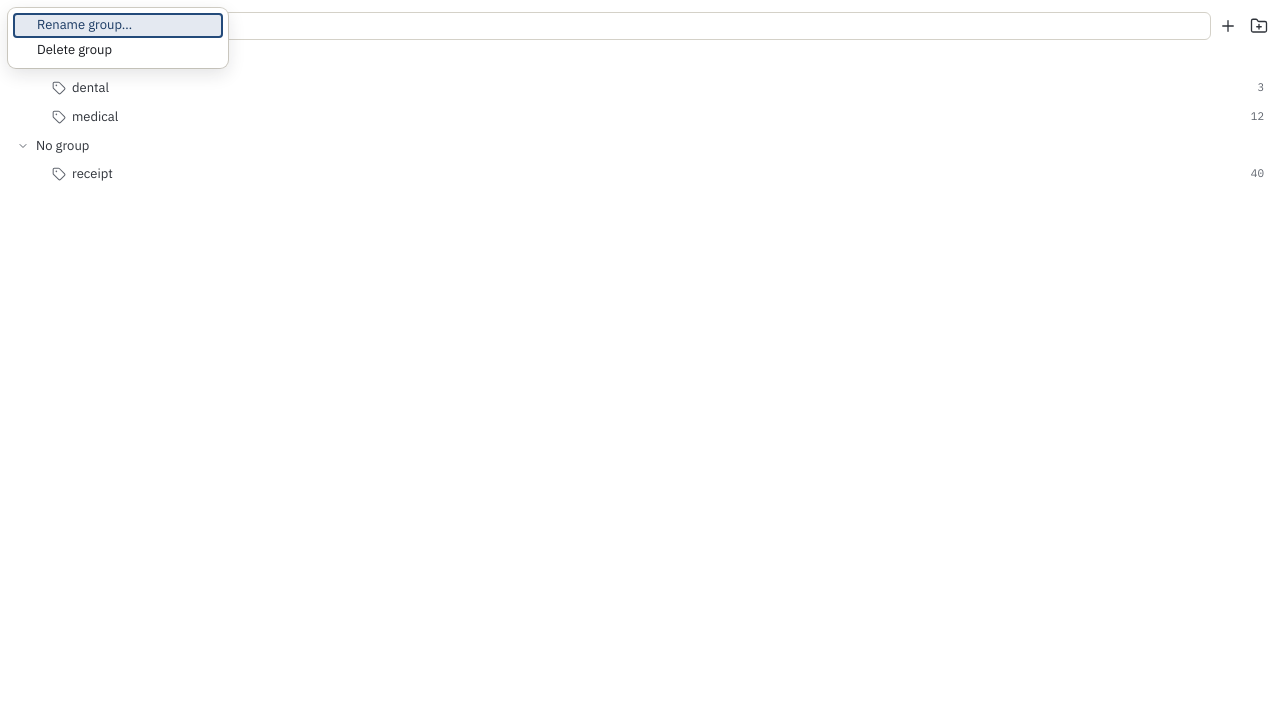
it: TagTree › a group's right-click menu renames or deletes it; New tag opens its sheet
Check: the menu items read "Rename group…", "Delete group", in this order, box [13,13,223,38]; [13,38,223,63]
Press Escape
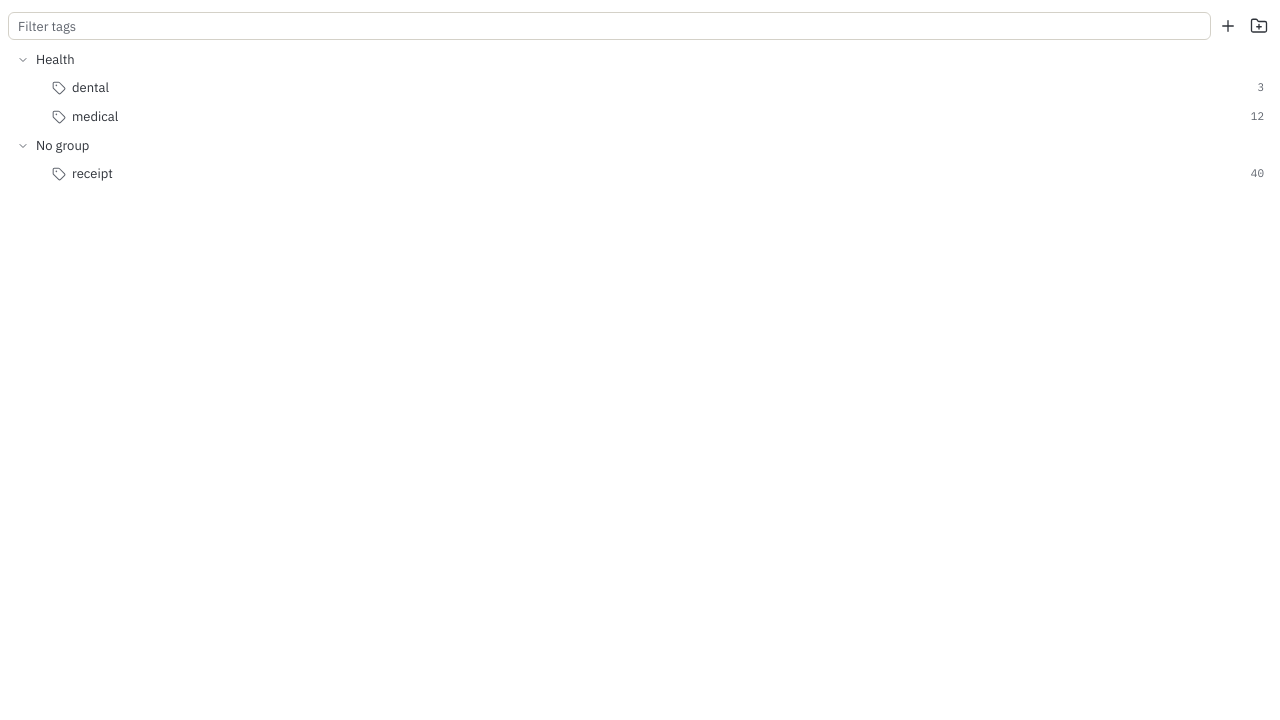
Click the button named "New tag" at [1228, 26], box [1215,12,1241,40]
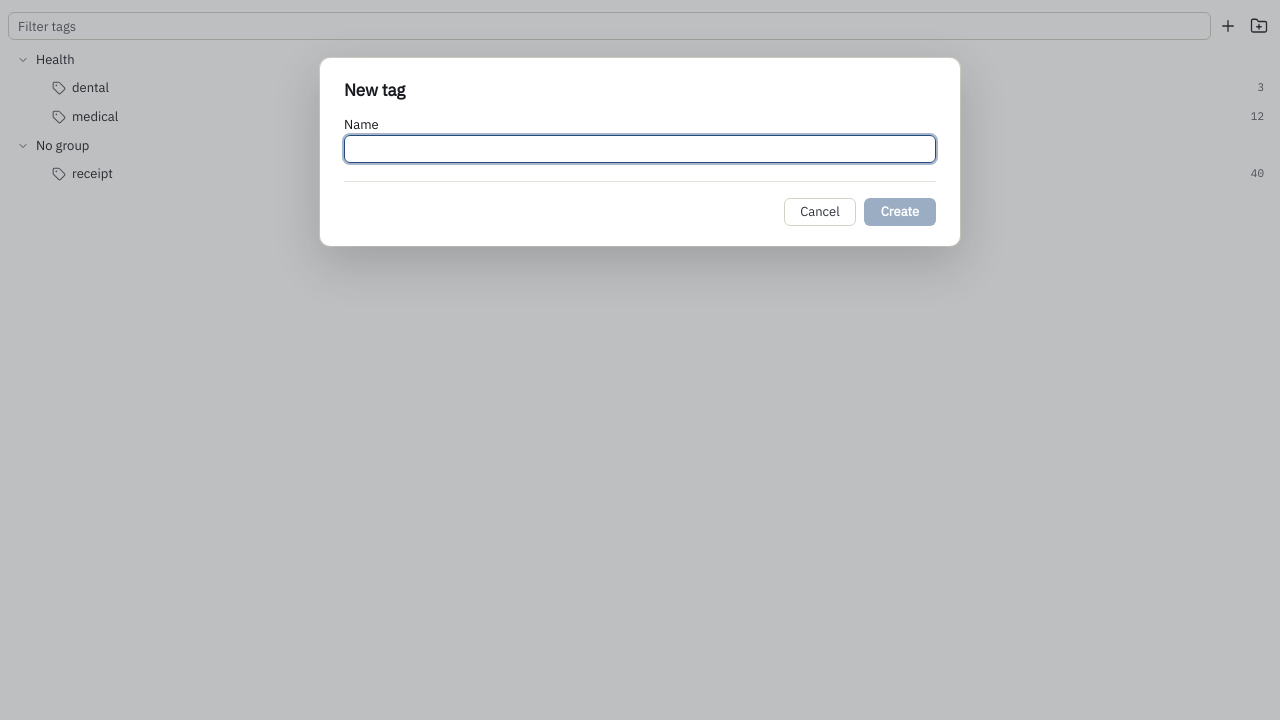
Check: the dialog "New tag" is shown, box [320,58,960,246]
